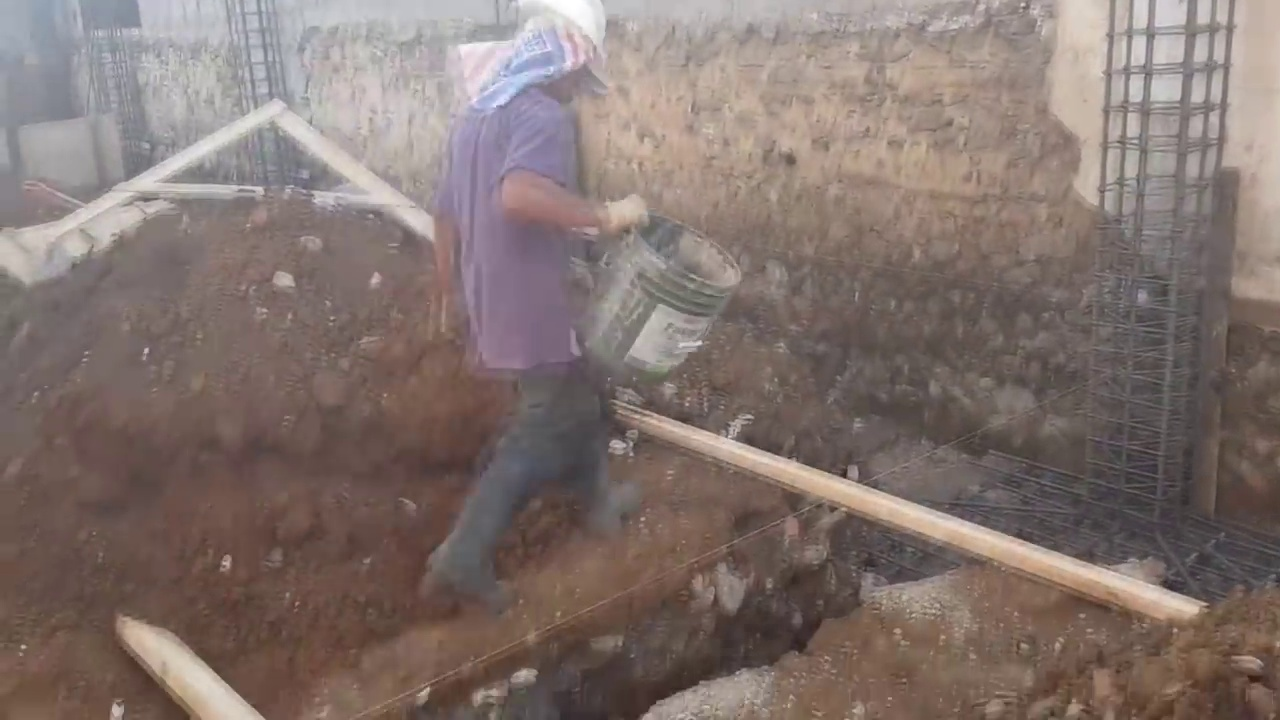helmet: (522, 2, 608, 60)
helmet-on: (496, 4, 608, 108)
person: (423, 2, 633, 616)
